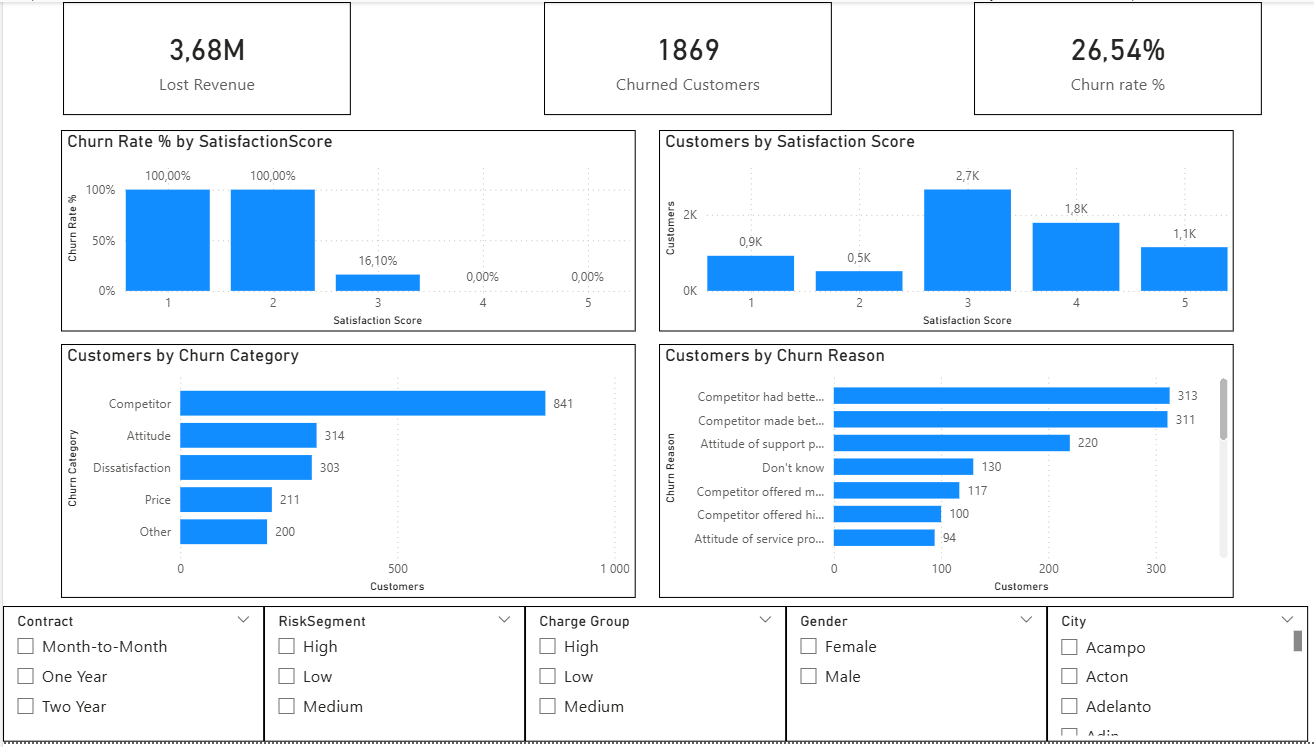

The dashboard page shown, as its layout file describes it:
{"tool":"powerbi","page":{"name":"Retention & Churn Drivers","canvas":[1280,720],"ordinal":3},"visuals":[{"type":"card","fields":{"Values":["Sum(01_Overview.lost_revenue)"]},"box":[58.4,0,280.1,109.9],"z":0},{"type":"card","fields":{"Values":["Sum(01_Overview.churned_customers)"]},"box":[526.2,0,280.1,109.9],"z":1000},{"type":"card","fields":{"Values":["01_Overview.Churn rate %"]},"box":[944.4,0,280.1,109.9],"z":2000},{"type":"columnChart","title":"Churn Rate % by SatisfactionScore","fields":{"Y":["telco_features.ChurnRatePercent"],"Category":["telco_features.SatisfactionScore"]},"box":[56.4,124.5,559.3,196.5],"z":3000},{"type":"barChart","title":"Customers by Churn Category","fields":{"Category":["telco_features.ChurnCategory"],"Y":["CountNonNull(telco_features.CustomerID)"]},"box":[56.4,332.6,559.3,247.1],"z":4000},{"type":"barChart","fields":{"Y":["CountNonNull(telco_features.CustomerID)"],"Category":["telco_features.ChurnReason"]},"box":[638.1,332.6,559.3,247.1],"z":5000},{"type":"columnChart","title":"Customers by Satisfaction Score","fields":{"Category":["telco_features.SatisfactionScore"],"Y":["CountNonNull(telco_features.CustomerID)"]},"box":[638.1,124.5,559.3,196.5],"z":6000},{"type":"slicer","fields":{"Values":["telco_features.Contract"]},"box":[0,587.5,253.9,132.3],"z":7000},{"type":"slicer","fields":{"Values":["telco_features.RiskSegment"]},"box":[253.9,587.5,253.9,132.3],"z":8000},{"type":"slicer","fields":{"Values":["telco_features.charge_group"]},"box":[507.7,587.5,253.9,132.3],"z":9000},{"type":"slicer","fields":{"Values":["telco_features.Gender"]},"box":[761.6,587.5,253.9,132.3],"z":10000},{"type":"slicer","fields":{"Values":["telco_features.City"]},"box":[1015.4,587.5,253.9,132.3],"z":11000}]}

Visuals, with their boxes in screenshot pixels (x1, y1, x2, y2), scaled from the page's 1280x720 canvas onto the 1314x747 screenshot:
card - Sum(01_Overview.lost_revenue): 60,0,347,114
card - Sum(01_Overview.churned_customers): 540,0,828,114
card - 01_Overview.Churn rate %: 969,0,1257,114
"Churn Rate % by SatisfactionScore" columnChart: 58,129,632,333
"Customers by Churn Category" barChart: 58,345,632,601
barChart - CountNonNull(telco_features.CustomerID) x telco_features.ChurnReason: 655,345,1229,601
"Customers by Satisfaction Score" columnChart: 655,129,1229,333
slicer - telco_features.Contract: 0,610,261,746
slicer - telco_features.RiskSegment: 261,610,521,746
slicer - telco_features.charge_group: 521,610,782,746
slicer - telco_features.Gender: 782,610,1042,746
slicer - telco_features.City: 1042,610,1303,746
